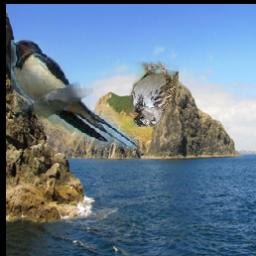Sparrow: (129, 62, 179, 128)
Swallow: (12, 40, 138, 149)
